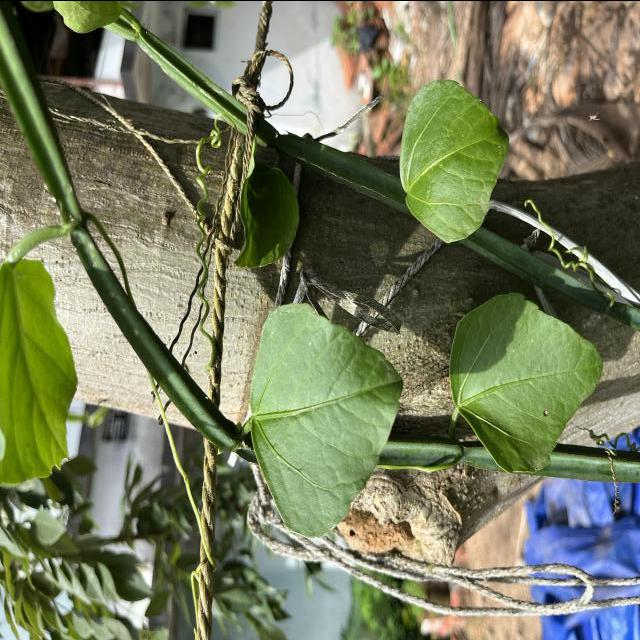Cissus quadrangularis: (246, 298, 406, 542), (446, 288, 606, 474), (397, 74, 510, 245)
